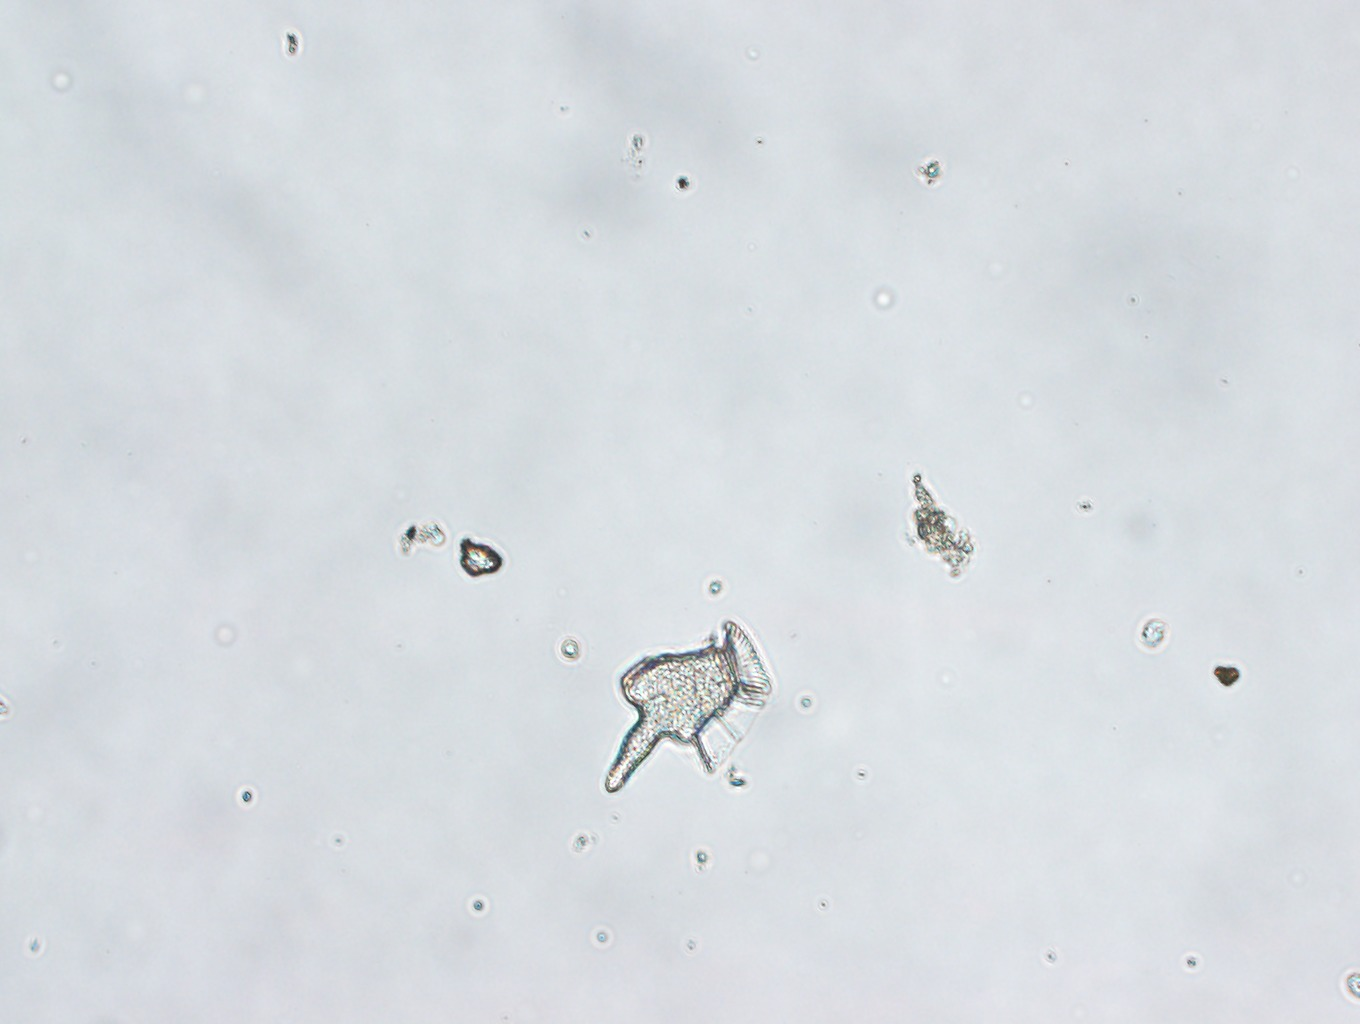dinophysis caudata: (606, 620, 773, 798)
